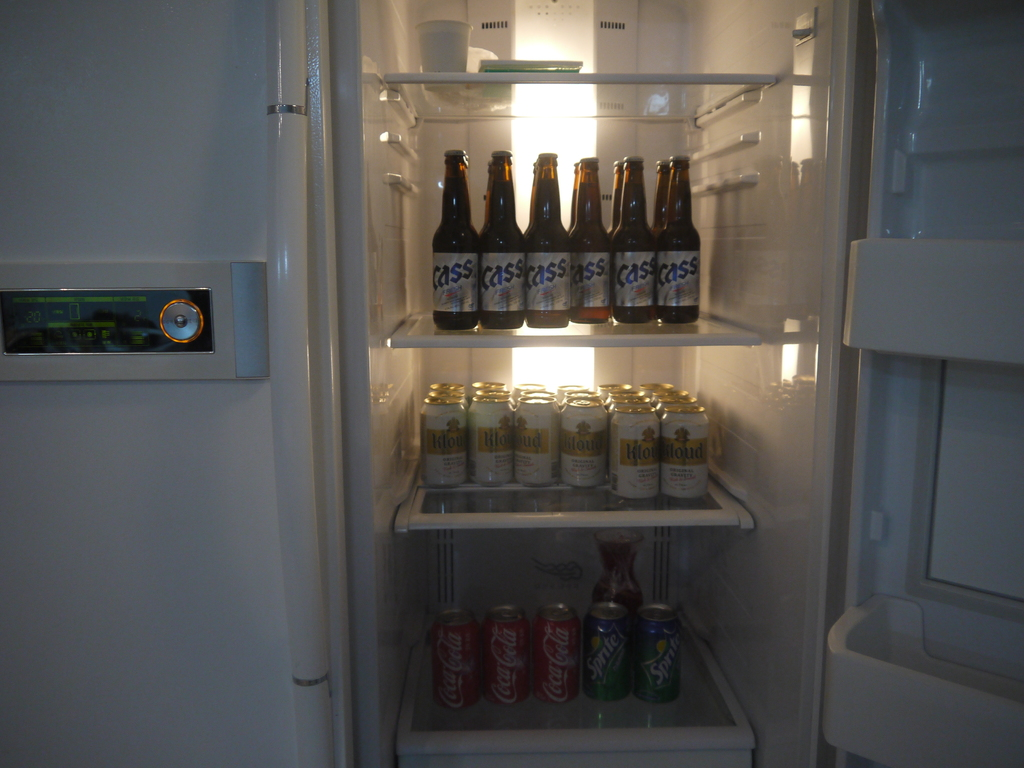handle: (255, 118, 345, 665)
refrigerator door: (11, 45, 307, 768), (873, 73, 1024, 715)
